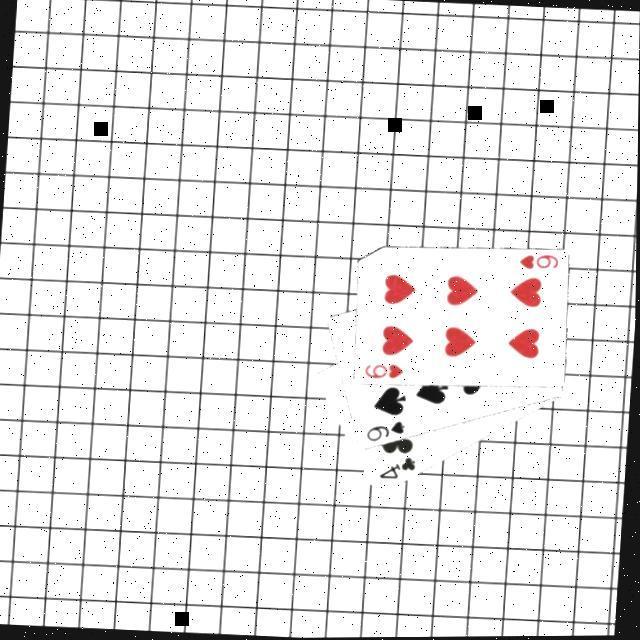4C: (374, 455, 418, 487)
6H: (359, 362, 405, 386), (514, 252, 560, 276)
9S: (362, 419, 407, 449)
